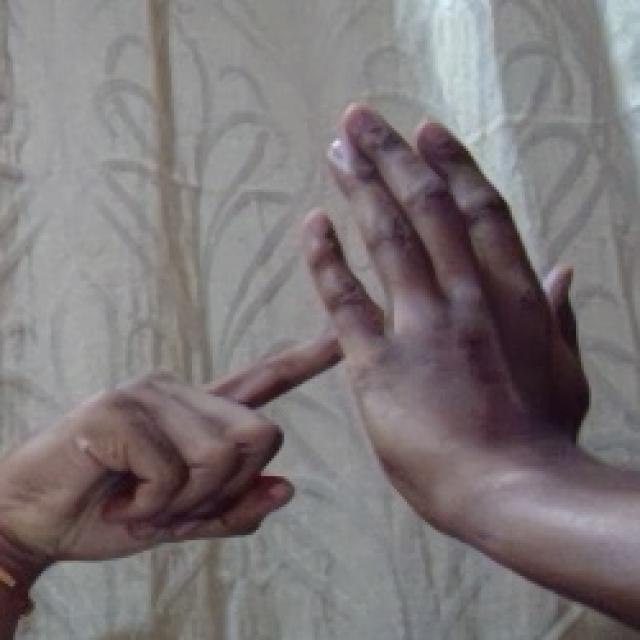Alphabet-R: (33, 96, 593, 599)
